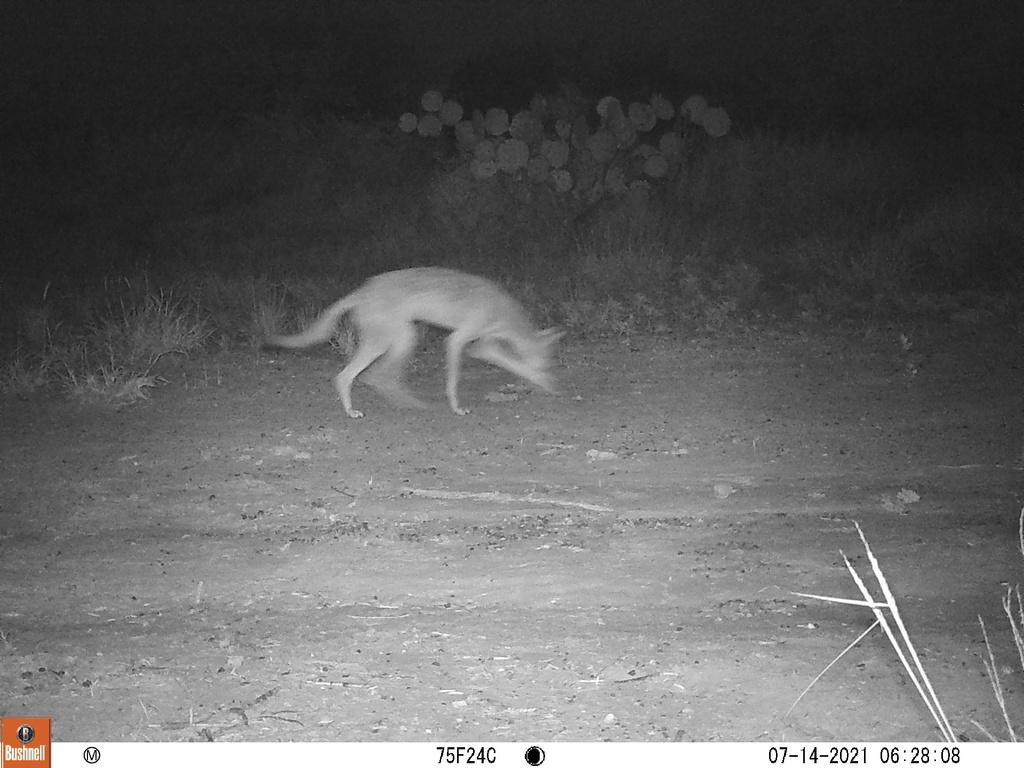Coyote: (258, 266, 572, 422)
